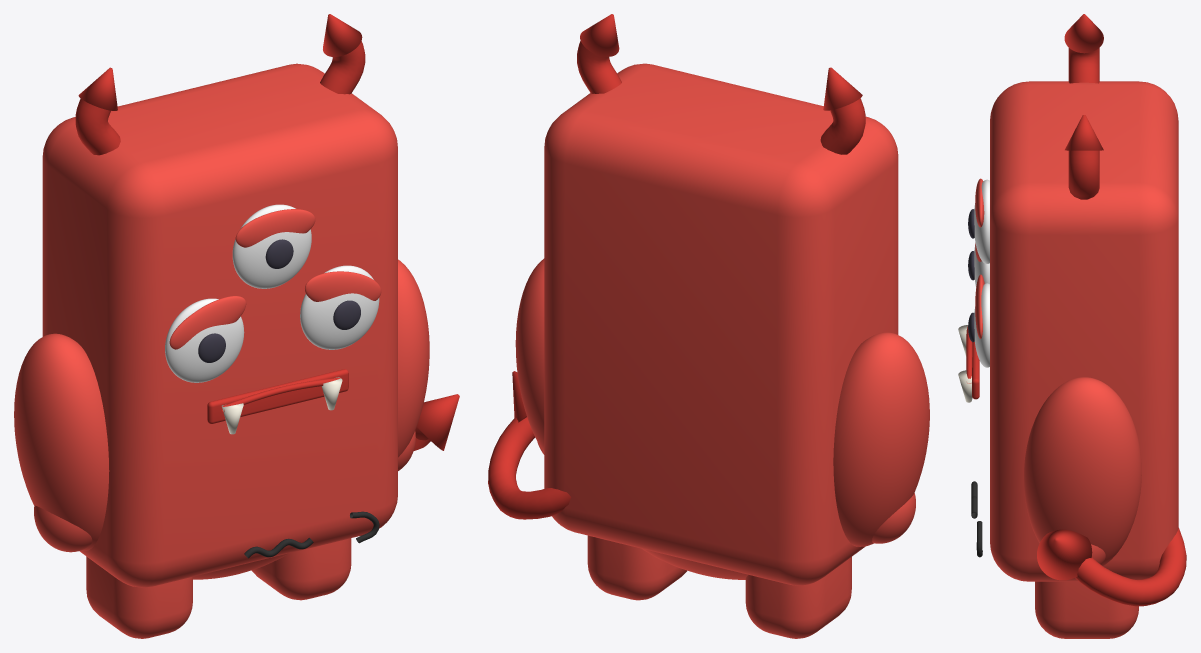
File: galih_v5.glb
3 views of the same model, side by side, from view 1: azimuth 30°, elevation 25°; view 2: azimuth 150°, elevation 25°; view 3: azimuth 270°, elevation 25° (orthographic). The views are drawn at different scales.
Parts seen in each view (by area): view 1: BODY, ARM.L, LEG.L, ARM.R, LEG.R, EYE.LEFT, EYE.RIGHT, EYE.TOP, MOUTH.BACKING, EYE.LEFT.LID, EYE.TOP.LID, EYE.RIGHT.LID (+11 smaller); view 2: BODY, ARM.L, LEG.L, ARM.R, LEG.R, TAIL, HORN.L.BASE, HORN.R.BASE, HORN.R.TIP, HAND.L, HORN.L.TIP, LOWER_VOLUME; view 3: BODY, ARM.R, LEG.R, TAIL, TAIL.ARROW, HORN.R.BASE, HORN.L.TIP, HORN.L.BASE, EYE.RIGHT, EYE.TOP, HORN.R.TIP, EYE.RIGHT.LID (+3 smaller).
Boxes of the visible parts, left/top/right/bottom form: BODY: left=42, top=63, right=397, bottom=587; ARM.L: left=14, top=333, right=109, bottom=550; LEG.L: left=86, top=556, right=192, bottom=638; ARM.R: left=398, top=259, right=429, bottom=457; LEG.R: left=251, top=538, right=351, bottom=600; EYE.LEFT: left=165, top=298, right=244, bottom=382; EYE.RIGHT: left=300, top=265, right=379, bottom=349; EYE.TOP: left=232, top=204, right=311, bottom=288; MOUTH.BACKING: left=207, top=369, right=348, bottom=423; EYE.LEFT.LID: left=169, top=296, right=246, bottom=349; EYE.TOP.LID: left=235, top=209, right=315, bottom=247; EYE.RIGHT.LID: left=305, top=271, right=381, bottom=301; BODY: left=544, top=63, right=898, bottom=585; ARM.L: left=833, top=332, right=929, bottom=546; LEG.L: left=745, top=557, right=851, bottom=638; ARM.R: left=515, top=258, right=544, bottom=452; LEG.R: left=587, top=535, right=686, bottom=600; TAIL: left=488, top=417, right=570, bottom=519; HORN.L.BASE: left=820, top=98, right=865, bottom=154; HORN.R.BASE: left=577, top=41, right=621, bottom=93; HORN.R.TIP: left=580, top=14, right=619, bottom=56; HAND.L: left=872, top=493, right=915, bottom=543; HORN.L.TIP: left=823, top=67, right=862, bottom=110; LOWER_VOLUME: left=642, top=549, right=748, bottom=579; BODY: left=990, top=81, right=1178, bottom=581; ARM.R: left=1024, top=377, right=1141, bottom=565; LEG.R: left=1035, top=581, right=1138, bottom=638; TAIL: left=1075, top=528, right=1186, bottom=606; TAIL.ARROW: left=1037, top=529, right=1092, bottom=580; HORN.R.BASE: left=1068, top=150, right=1099, bottom=199; HORN.L.TIP: left=1064, top=14, right=1103, bottom=53; HORN.L.BASE: left=1068, top=48, right=1099, bottom=83; EYE.RIGHT: left=974, top=283, right=989, bottom=367; EYE.TOP: left=974, top=179, right=989, bottom=263; HORN.R.TIP: left=1065, top=115, right=1103, bottom=150; EYE.RIGHT.LID: left=975, top=274, right=984, bottom=338.
Bounding box in the file's own units: 3.25 × 4.16 × 1.62.
